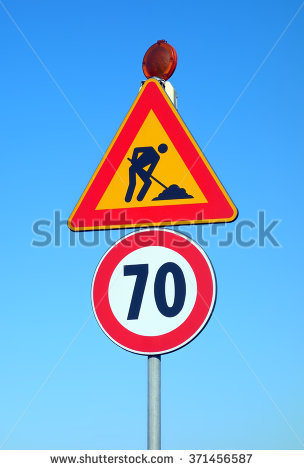Speed_limit_70km: (89, 230, 217, 352)
